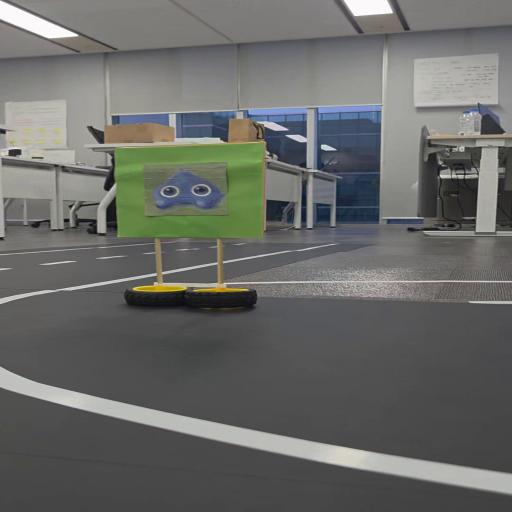Sign_B: (107, 141, 279, 320)
